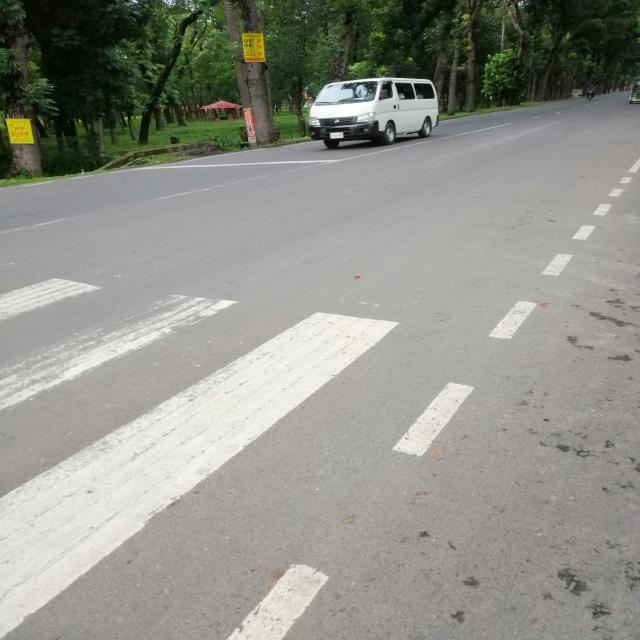Micro-Bus: (286, 69, 461, 166)
